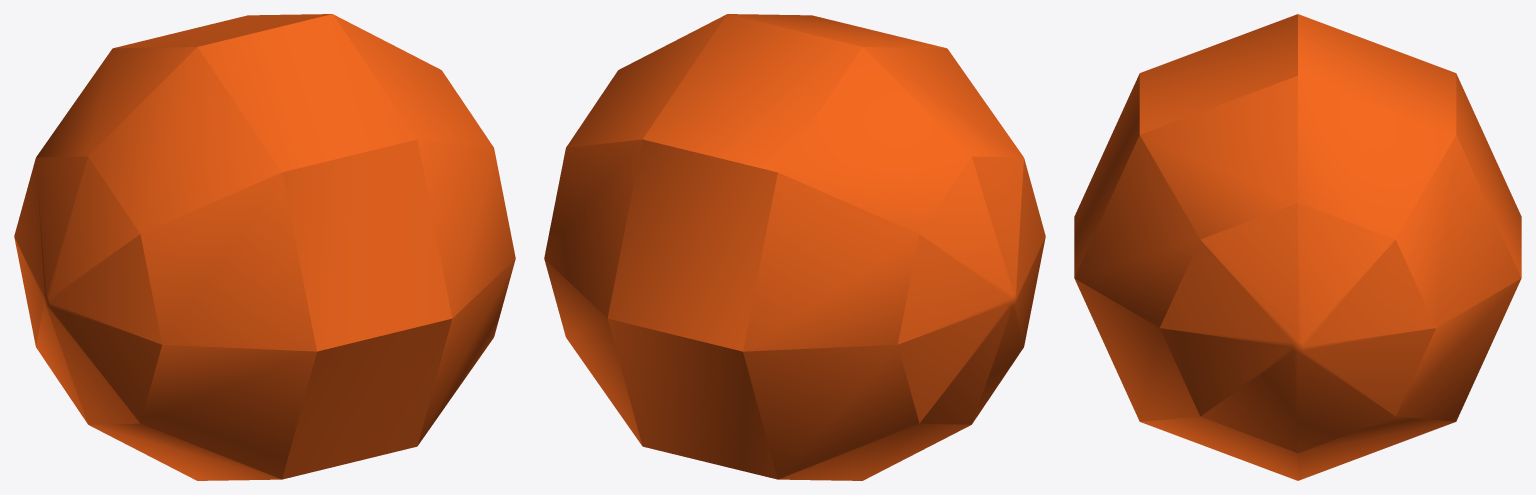
File: antenna_tip.obj
3 renders of one model, left to right at view 1: azimuth 30°, elevation 25°; view 2: azimuth 150°, elevation 25°; view 3: azimuth 270°, elevation 25°, orthographic. The views are drawn at different scales.
Parts seen in each view (by area): view 1: antenna_tip; view 2: antenna_tip; view 3: antenna_tip.
Boxes of the visible parts, bbox=[...] form: antenna_tip: bbox=[14, 14, 515, 480]; antenna_tip: bbox=[544, 14, 1045, 480]; antenna_tip: bbox=[1074, 14, 1521, 480].
Bounding box in the file's own units: 0.008 × 0.0076 × 0.0076.
